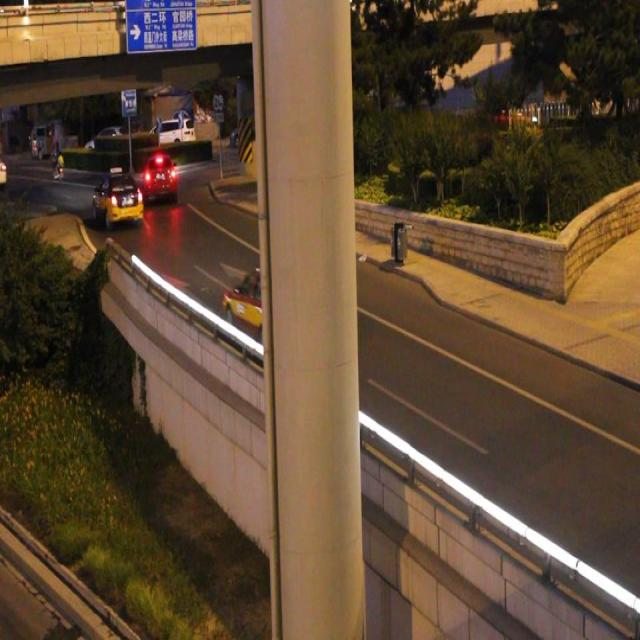car: (224, 256, 304, 352), (93, 168, 143, 229), (142, 153, 176, 201)
